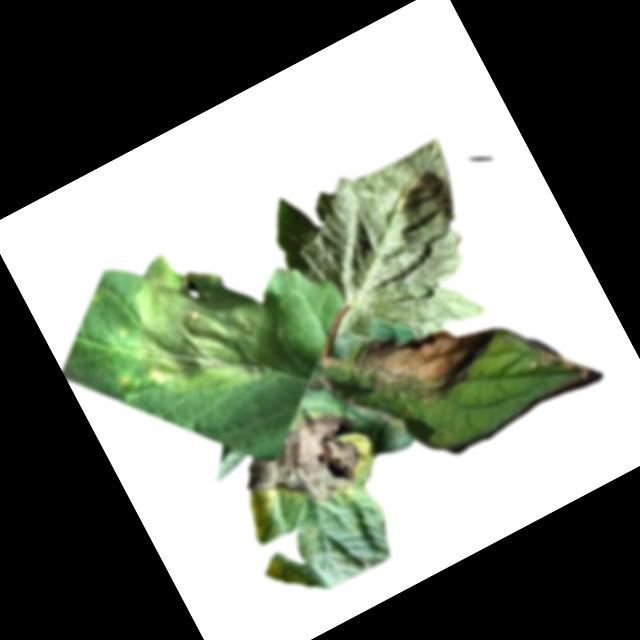Late_blight: (99, 219, 301, 425), (344, 286, 513, 429), (229, 395, 385, 533), (520, 321, 593, 400)
